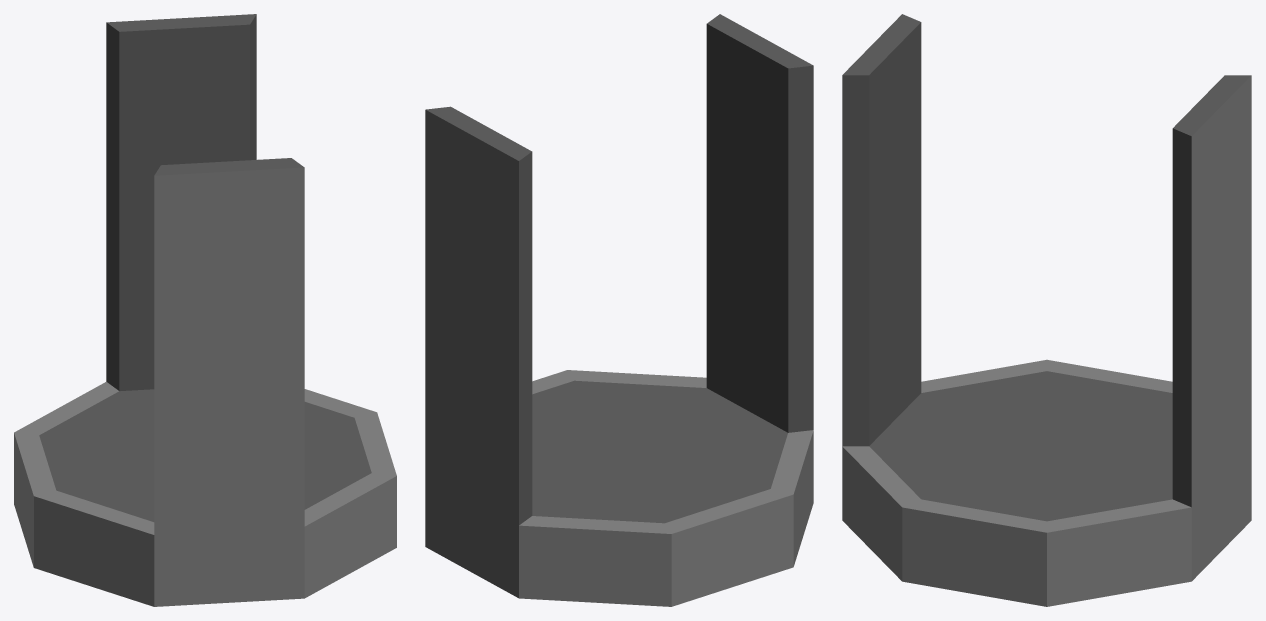
The model's file is LightBase2.glb.
3 renders of one model, left to right at view 1: azimuth 30°, elevation 25°; view 2: azimuth 150°, elevation 25°; view 3: azimuth 270°, elevation 25°, orthographic. The views are drawn at different scales.
Visible parts, largest first — view 1: Cylinder; view 2: Cylinder; view 3: Cylinder.
Boxes of the visible parts, box(x1,y1,x2,y2) form: Cylinder: box(14, 14, 396, 606); Cylinder: box(425, 14, 813, 606); Cylinder: box(842, 14, 1251, 606).
Size of the model in its own units: 2 by 2.4 by 2.
Materials: 1 (1 with a texture image).
